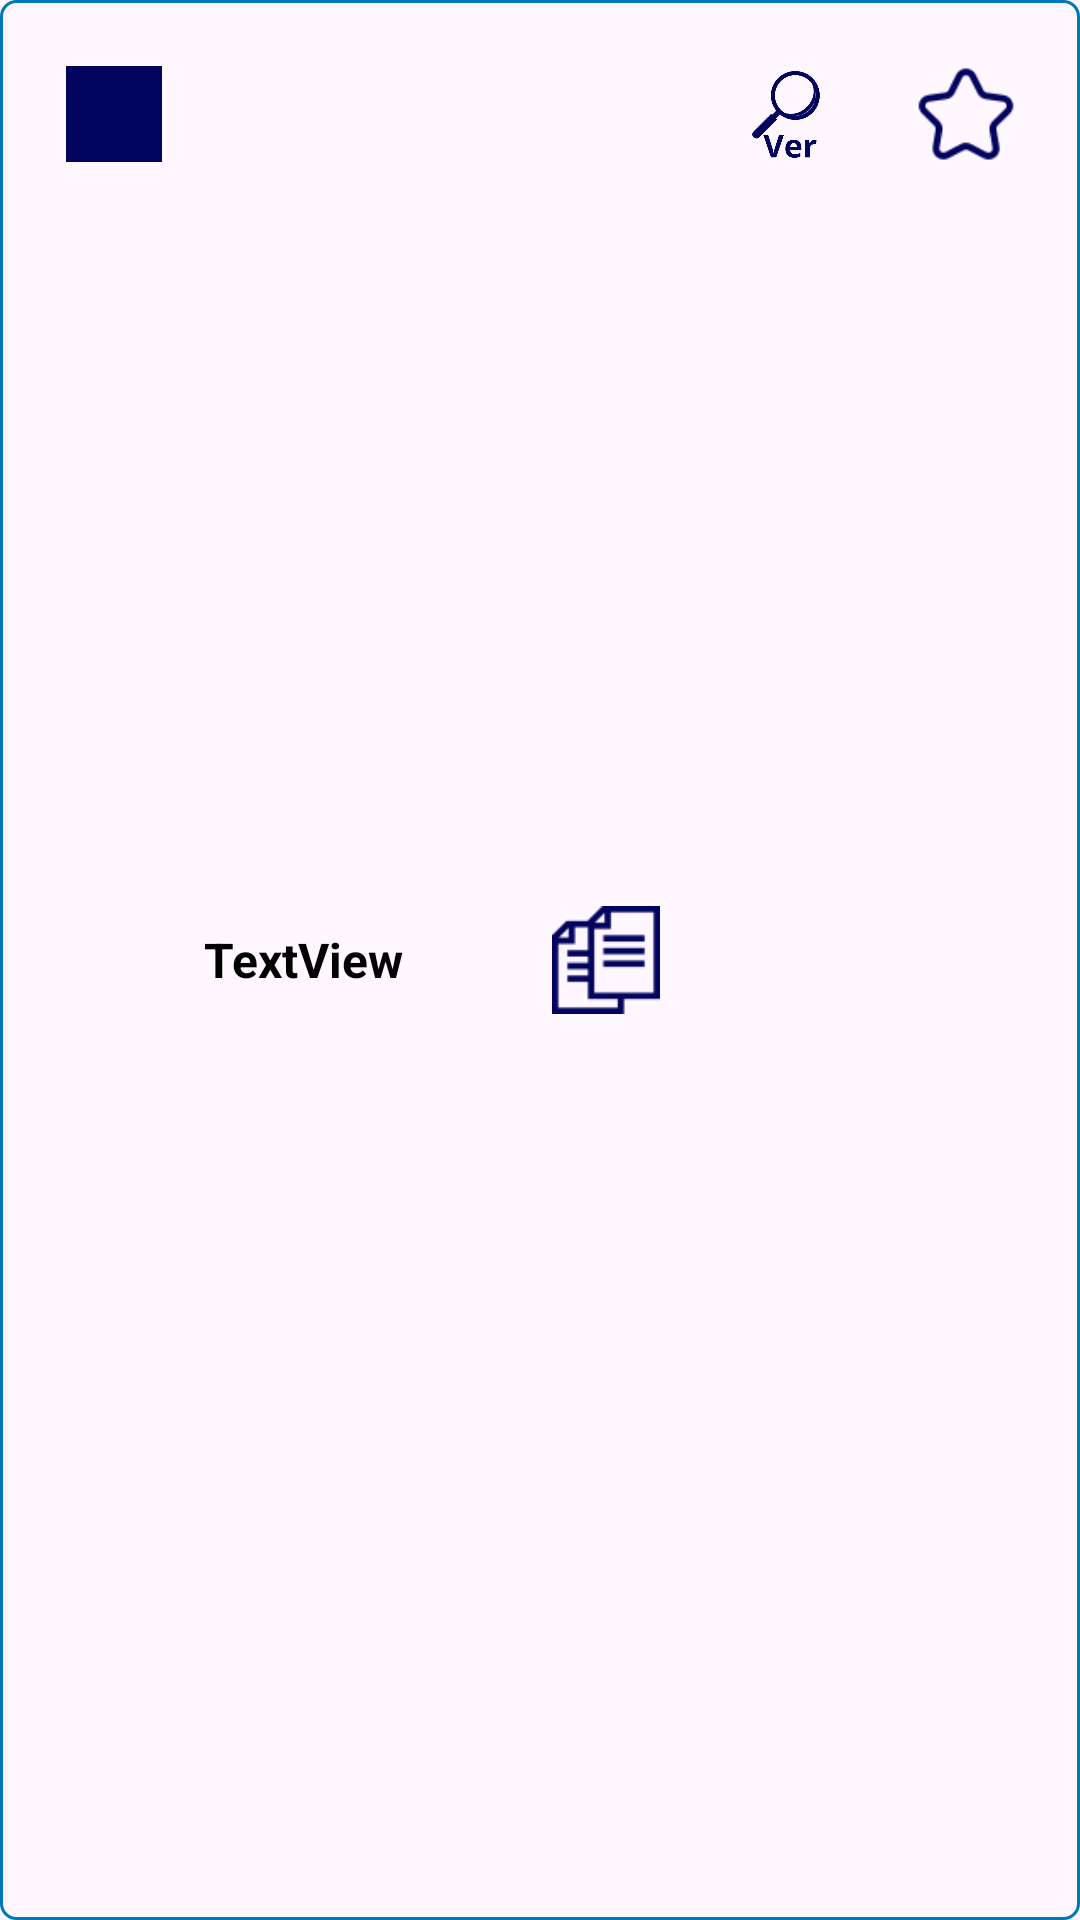

Screen size 1080×1920. Icon name, then its box in pixels as (x1, y1, x2, y2):
duplicado: (552, 906, 660, 1014)
estrela: (918, 68, 1014, 160)
lupa: (752, 71, 820, 158)
